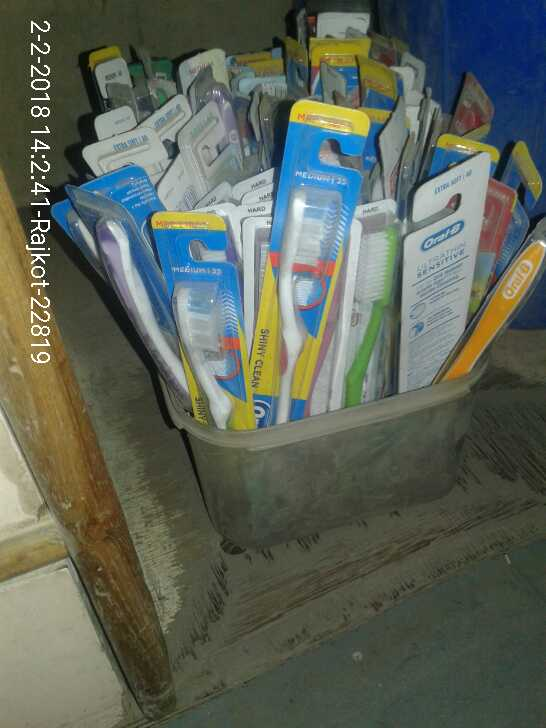oralb: (270, 177, 342, 434)
